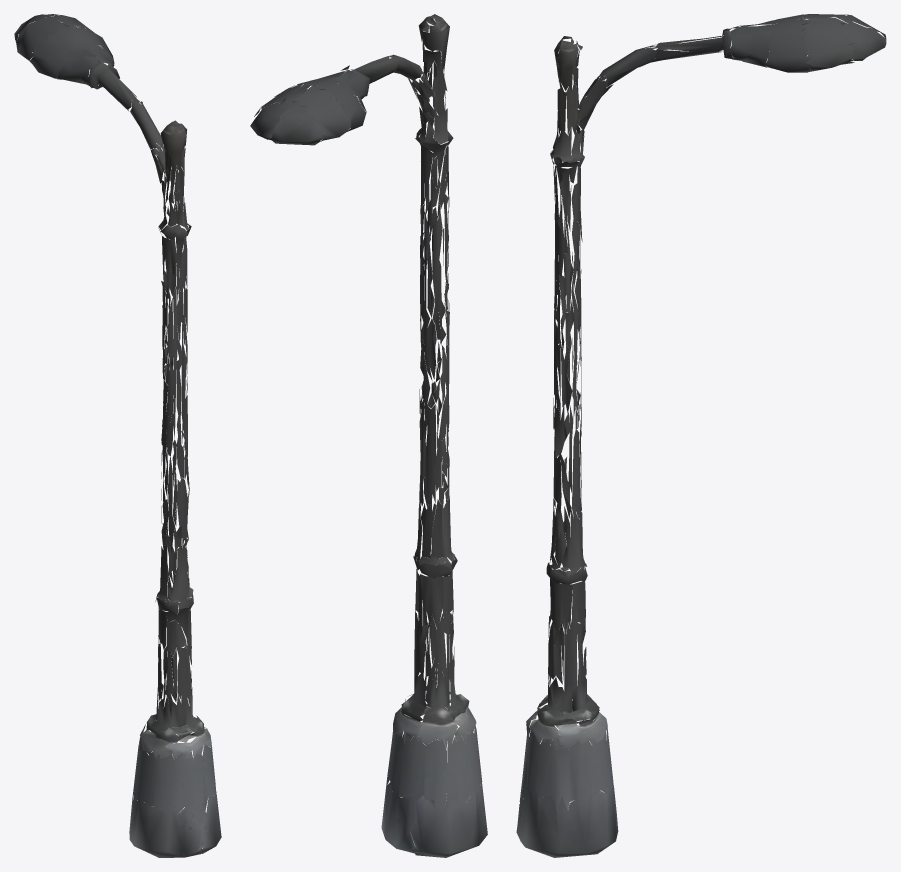
The model's file is lamp.glb.
The picture shows the model from 3 angles, left to right: view 1: azimuth 30°, elevation 25°; view 2: azimuth 150°, elevation 25°; view 3: azimuth 270°, elevation 25°; orthographic projection. The views are drawn at different scales.
Parts seen in each view (by area): view 1: tripo_node_6c064670-3bb1-496f-ae87-efd60ea6f45a; view 2: tripo_node_6c064670-3bb1-496f-ae87-efd60ea6f45a; view 3: tripo_node_6c064670-3bb1-496f-ae87-efd60ea6f45a.
Boxes of the visible parts, x1,y1,x2,y2 form: tripo_node_6c064670-3bb1-496f-ae87-efd60ea6f45a: (14, 14, 221, 857); tripo_node_6c064670-3bb1-496f-ae87-efd60ea6f45a: (250, 14, 487, 857); tripo_node_6c064670-3bb1-496f-ae87-efd60ea6f45a: (516, 14, 886, 857).
Size of the model in its own units: 0.1141 by 1 by 0.4085.
Materials: 1 (1 with a texture image).
